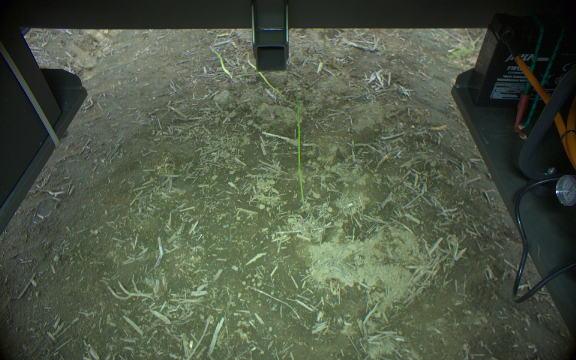aspa: (290, 88, 312, 219), (244, 57, 284, 97), (206, 46, 234, 83)
